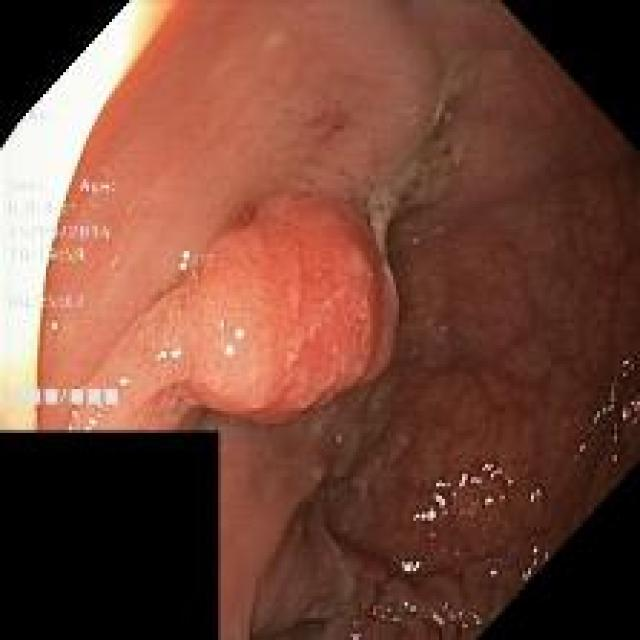Polyps: (70, 196, 399, 431)
